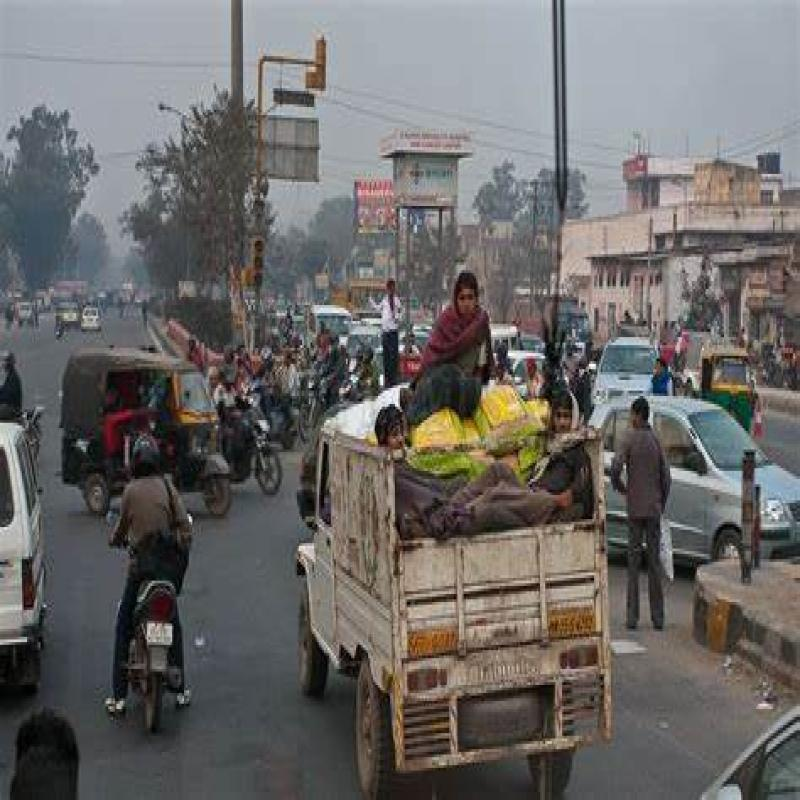auto: (47, 336, 228, 540), (705, 323, 760, 440)
bike: (112, 512, 198, 763)
car: (583, 375, 800, 623)
